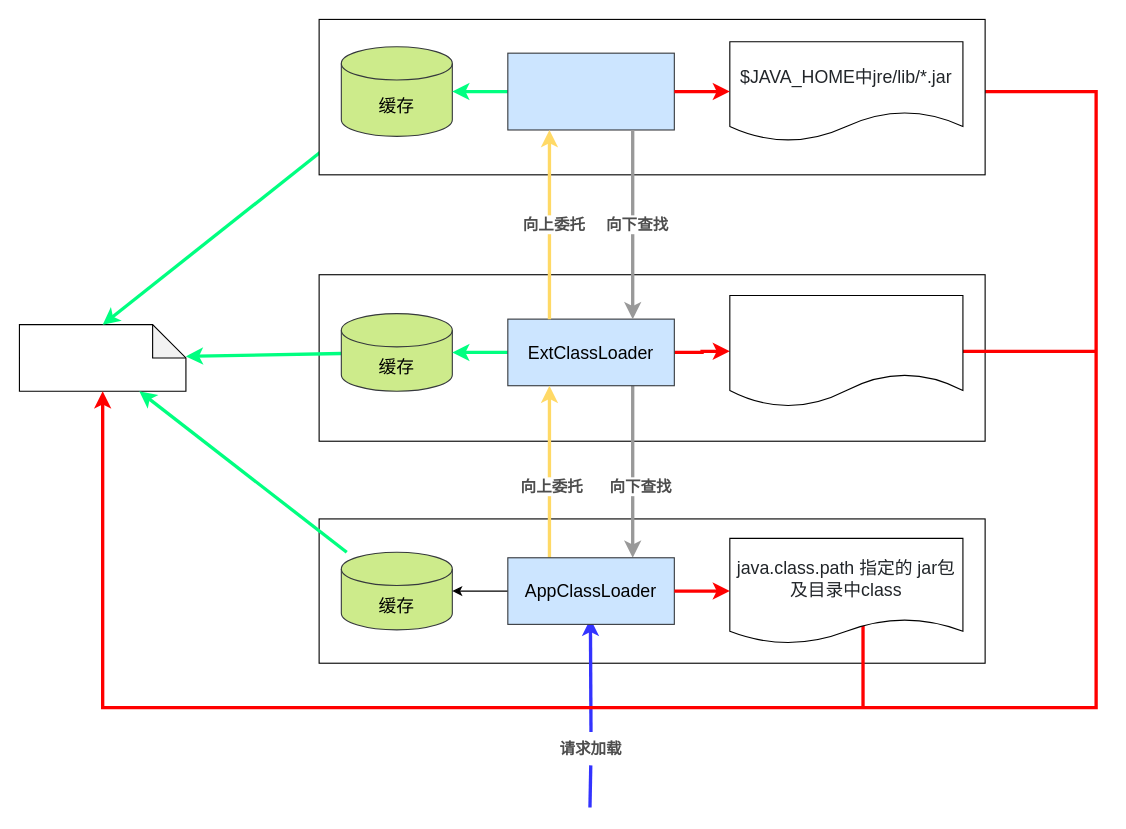
Some shapes in this 1126 by 829 pixel diagram are drawn without their labels. Each missing label, with the centre of its shape:
$JAVA_HOME中jre/lib/ext/*.jar 或 -Djava.ext.dirs指定目录下的jar包: point (846, 350)
Bootstrap ClassLoader: point (590, 91)
class对象: point (102, 357)
